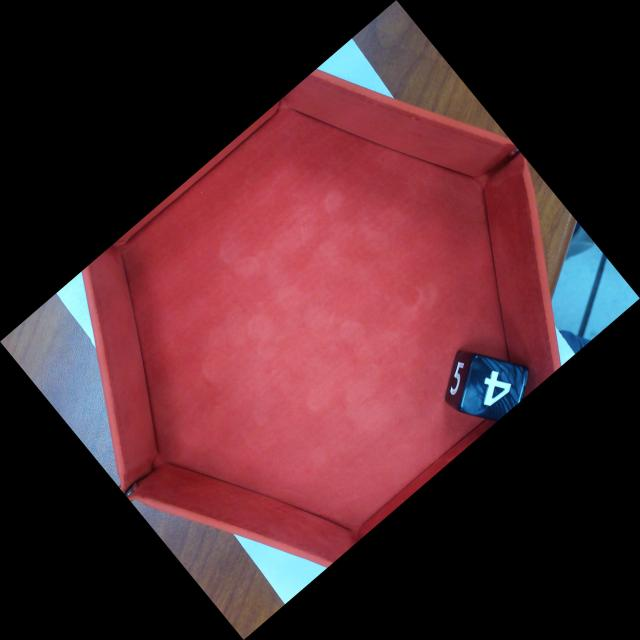dice: (457, 353, 532, 432)
